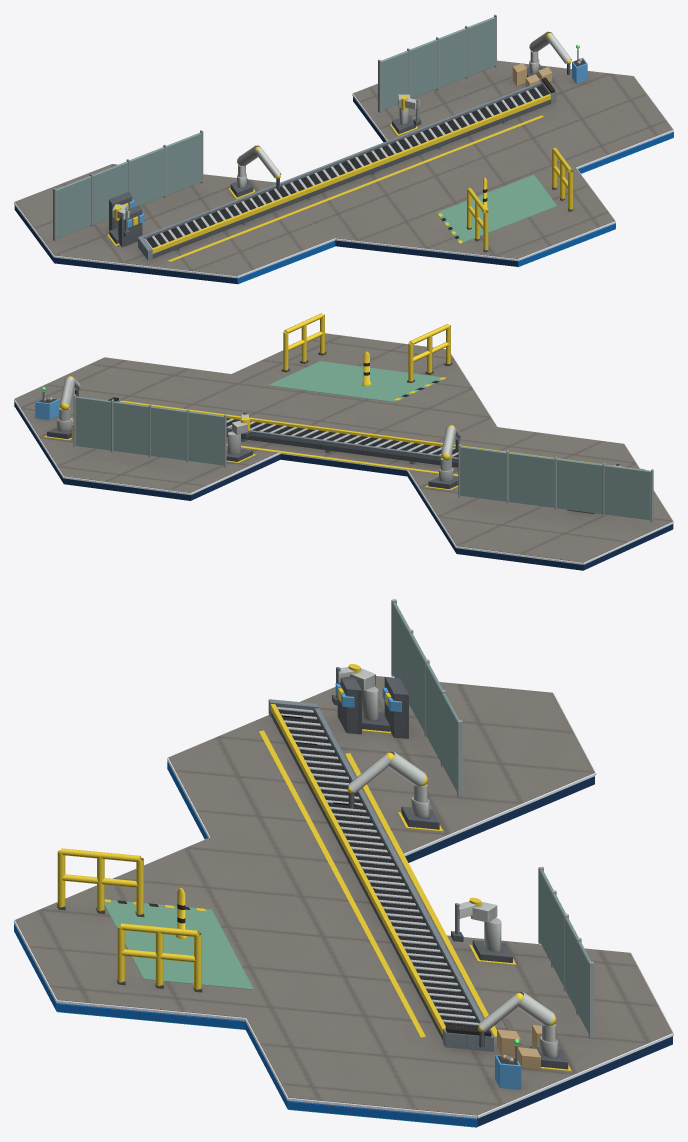
The model's file is field_cm15_01.glb.
3 renders of one model, top to bottom at view 1: azimuth 30°, elevation 25°; view 2: azimuth 150°, elevation 25°; view 3: azimuth 270°, elevation 25°, orthographic. The views are drawn at different scales.
Parts seen in each view (by area): view 1: field_cm15_01-static; view 2: field_cm15_01-static; view 3: field_cm15_01-static.
Part boxes in pixels (left/top/right/bottom): field_cm15_01-static: left=14, top=14, right=673, bottom=284; field_cm15_01-static: left=14, top=313, right=673, bottom=570; field_cm15_01-static: left=14, top=599, right=673, bottom=1127.
Bounding box in the file's own units: 19.17 × 1.92 × 12.12.
Materials: 1 (1 with a texture image).
